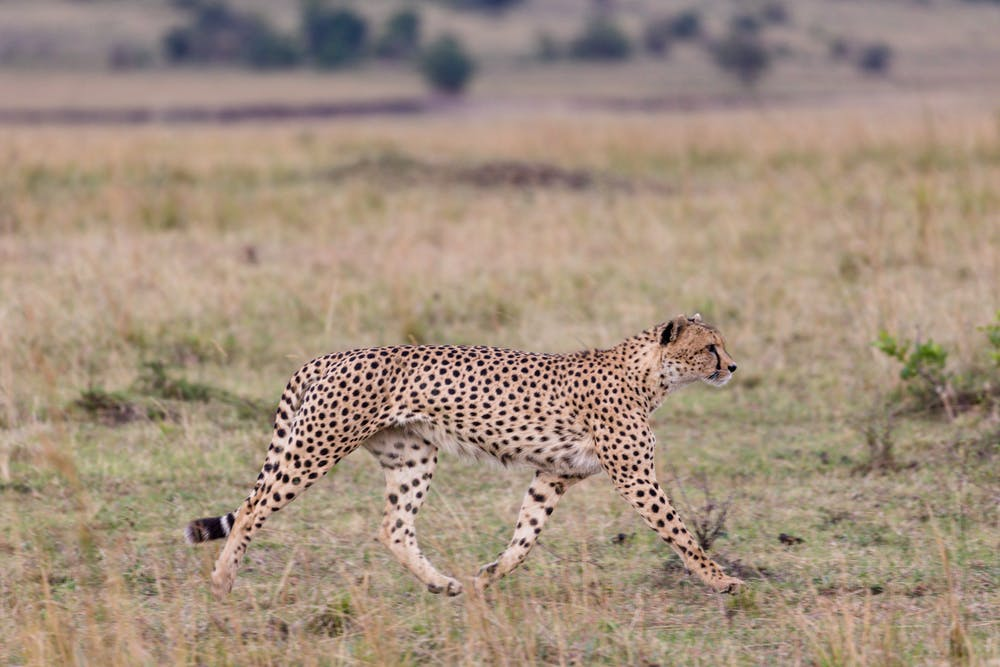cheetah: (643, 305, 743, 399)
